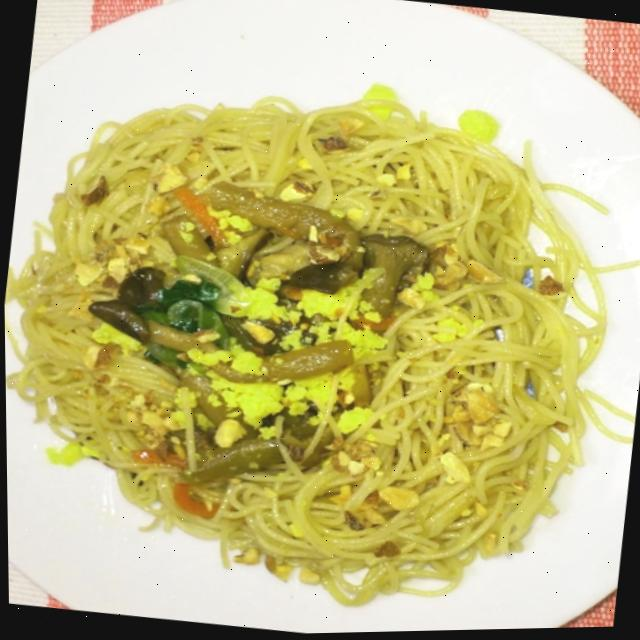汤锅炖物: (5, 439, 120, 614)
熟制海鲜: (39, 141, 427, 523)
米饭主食: (85, 511, 324, 639)
